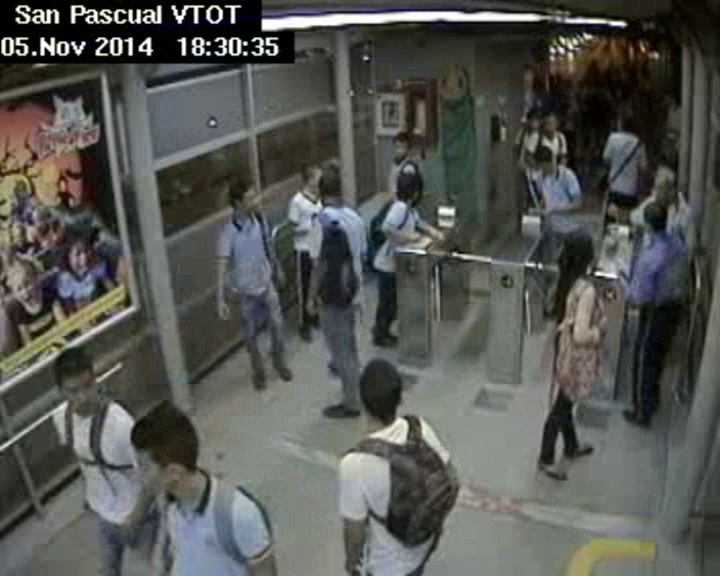person: (123, 395, 203, 501), (353, 357, 402, 428), (53, 349, 101, 415), (648, 163, 693, 208), (560, 228, 595, 279), (223, 174, 262, 216), (638, 194, 670, 243), (309, 164, 340, 203), (298, 159, 328, 197), (390, 167, 419, 201), (531, 146, 562, 175), (393, 130, 415, 158), (536, 109, 559, 134), (525, 107, 543, 129), (620, 115, 635, 136)
